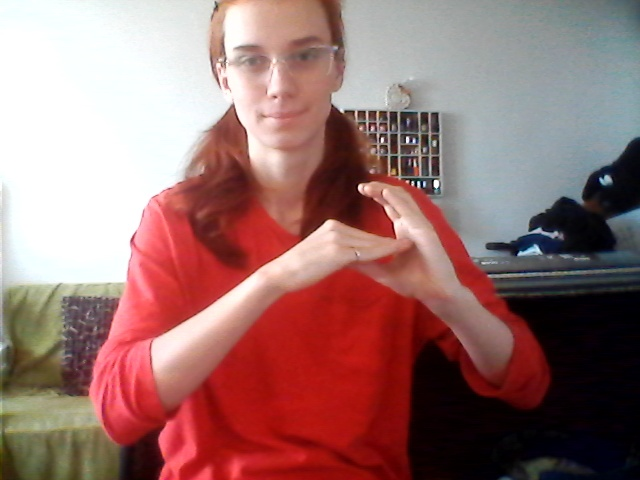e: (284, 178, 453, 311)
